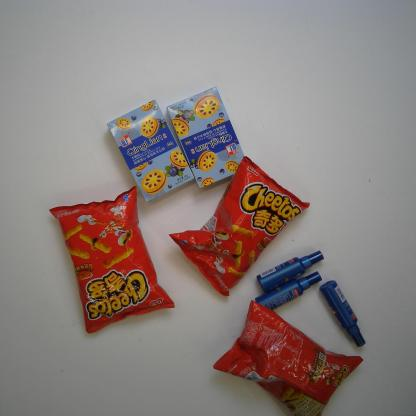Dessert: (107, 100, 194, 203), (166, 86, 246, 190)
Personal Hygiene: (319, 279, 366, 347), (256, 250, 325, 292), (254, 271, 323, 311)
Puffed Food: (168, 156, 310, 297), (48, 185, 175, 335), (212, 299, 364, 416)
